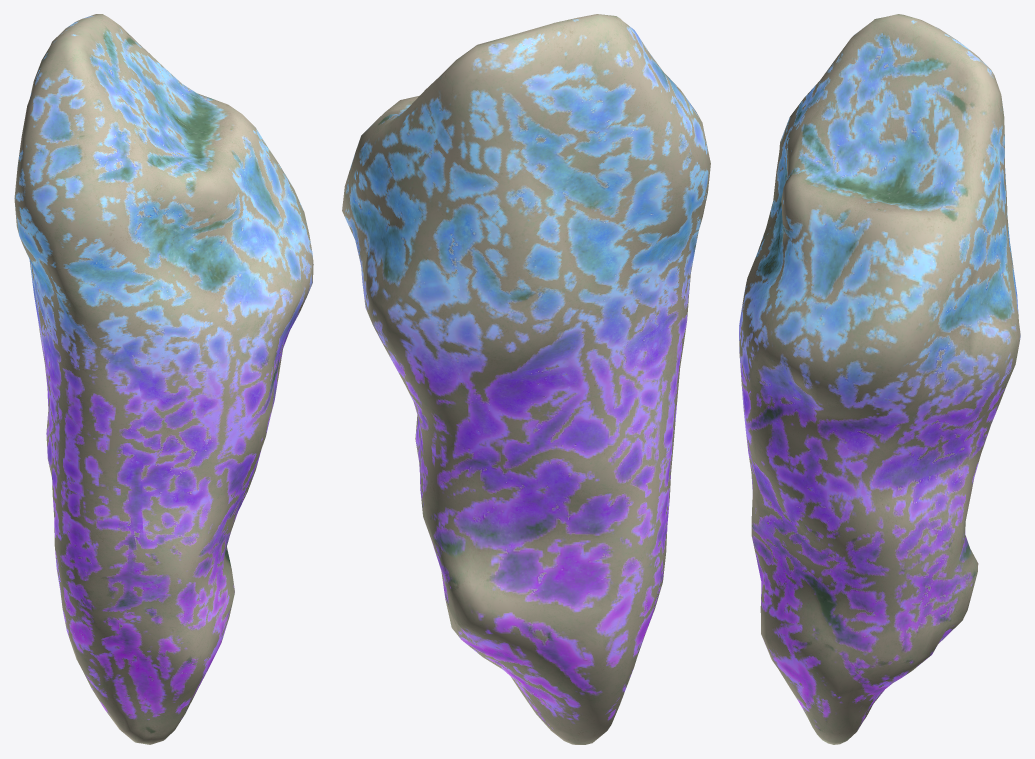
The model's file is crystal.fbx.
The picture shows the model from 3 angles, left to right: view 1: azimuth 30°, elevation 25°; view 2: azimuth 150°, elevation 25°; view 3: azimuth 270°, elevation 25°; orthographic projection. The views are drawn at different scales.
Visible parts, largest first — view 1: crystal_low; view 2: crystal_low; view 3: crystal_low.
Part boxes in pixels (x1,y1,x2,y2): crystal_low: (14, 14, 313, 744); crystal_low: (342, 14, 710, 744); crystal_low: (739, 14, 1020, 744).
Size of the model in its own units: 1.24 by 2.77 by 1.01.
